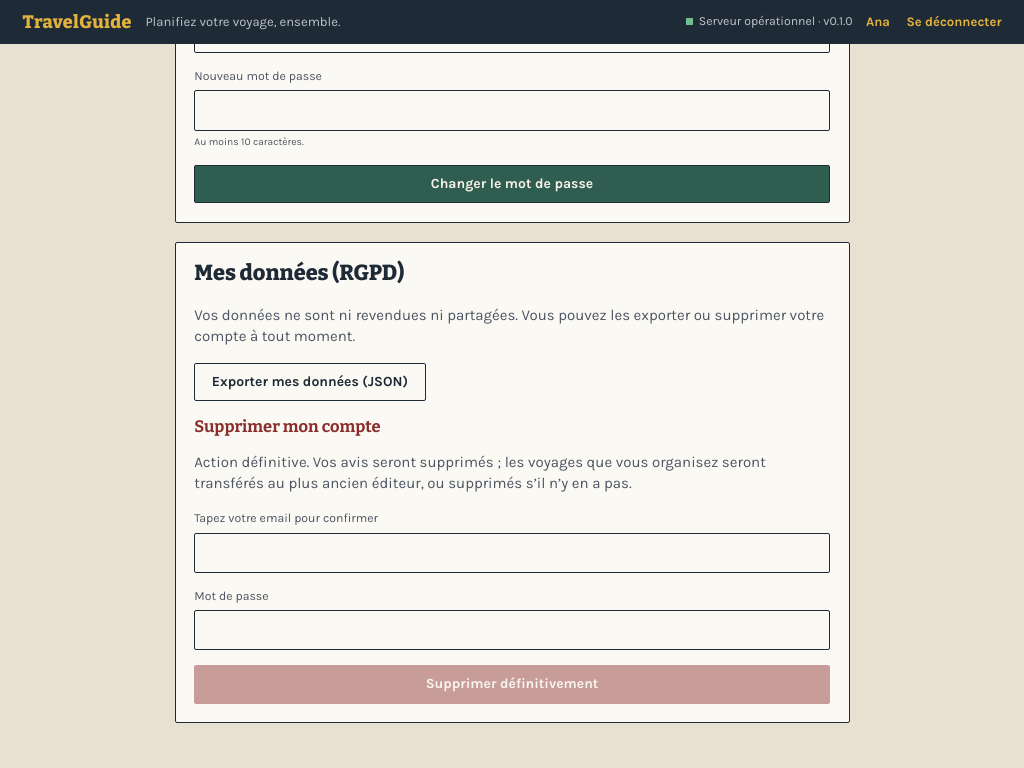
authentification › n'active la suppression du compte qu'avec le bon email
(page scrolled)
Expected: the button "Supprimer définitivement" is disabled, [194,665,830,704]
Type "ana@example.com" into the field labelled "Tapez votre email pour confirmer" at (512, 553), box [194,533,830,573]
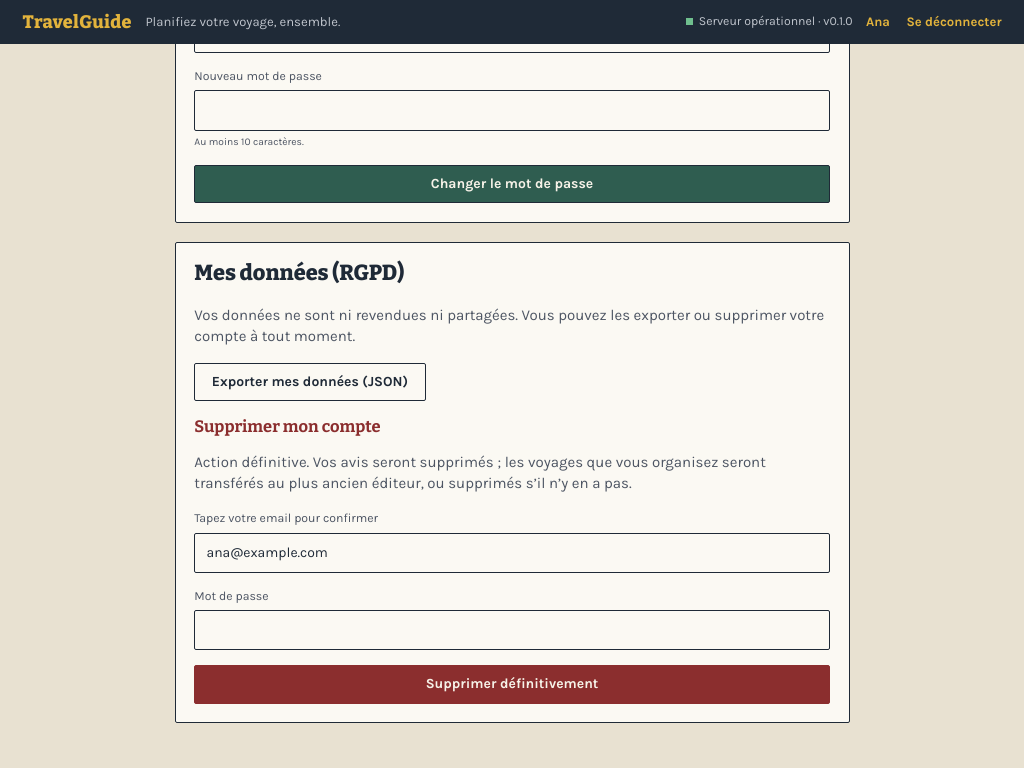
Expected: the button "Supprimer définitivement" is enabled, [194,665,830,704]
